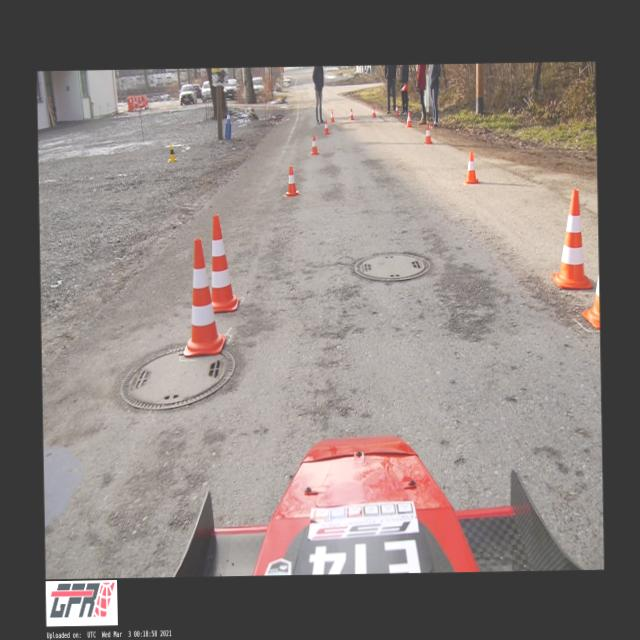blue_cone: (225, 110, 231, 124)
large_orange_cone: (182, 238, 226, 354), (550, 188, 592, 288), (210, 214, 238, 310)
orange_cone: (284, 166, 300, 196), (464, 150, 478, 183), (424, 124, 432, 144), (310, 135, 318, 154), (406, 112, 411, 127), (400, 82, 408, 91), (349, 108, 354, 120), (324, 120, 328, 134), (371, 106, 376, 117), (394, 104, 399, 115), (330, 110, 334, 122)
yellow_cone: (168, 142, 175, 162)
